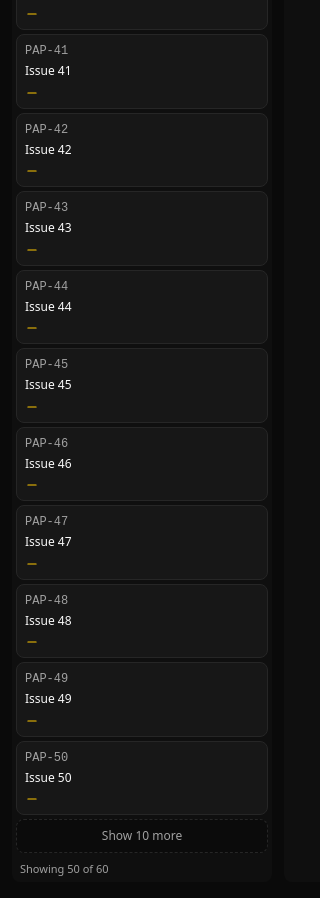
Test: KanbanBoard › limits visible cards and reveals more cards per column
(page scrolled)
Expected: the text "Issue 51" is not shown
Click the button "Show 10 more": (142, 836) x1=16 y1=819 x2=268 y2=853
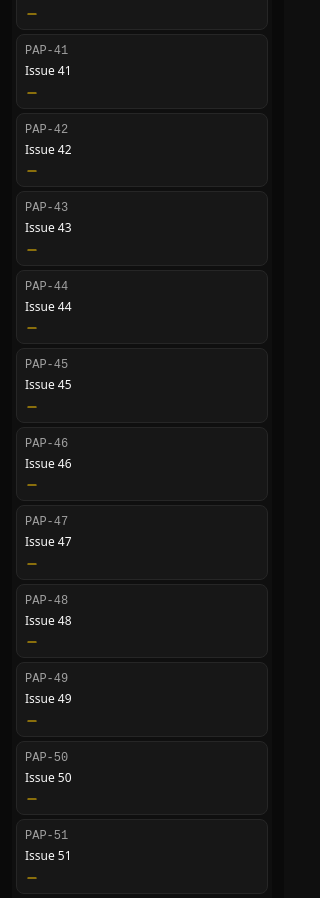
Expected: the text "Show 10 more" is gone
